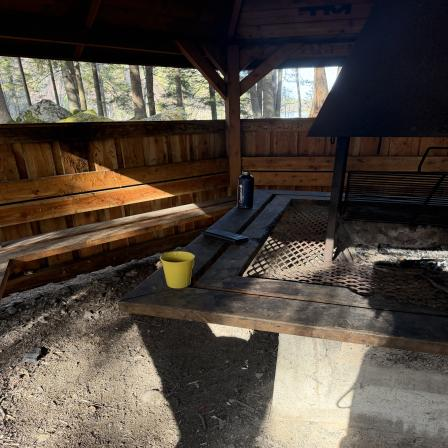blue_bottle: (236, 170, 258, 210)
phone: (203, 228, 253, 244)
yellow_cup: (159, 252, 196, 290)
